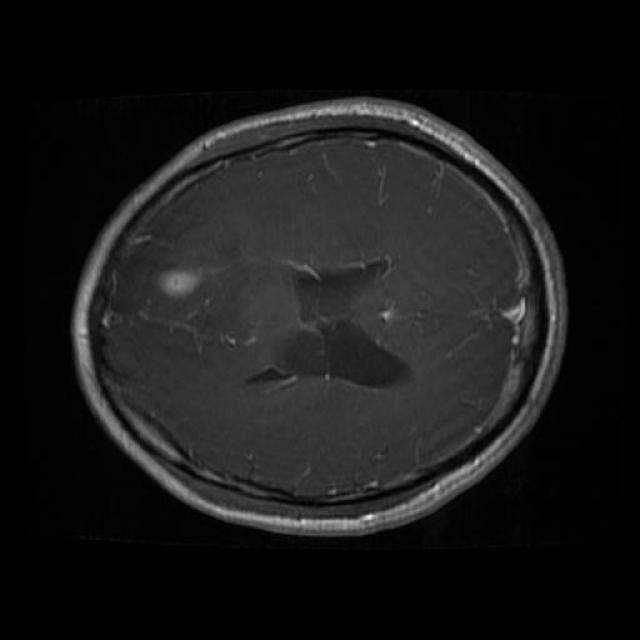Glioma: (123, 263, 268, 339)
